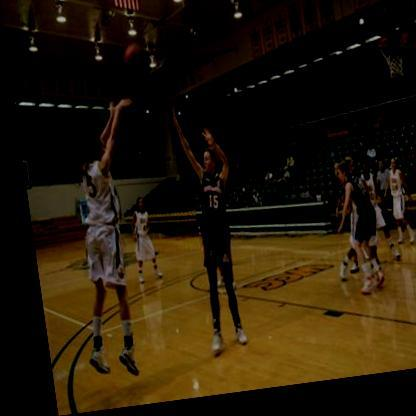basketball: (118, 45, 143, 77)
rim: (374, 42, 403, 59)
